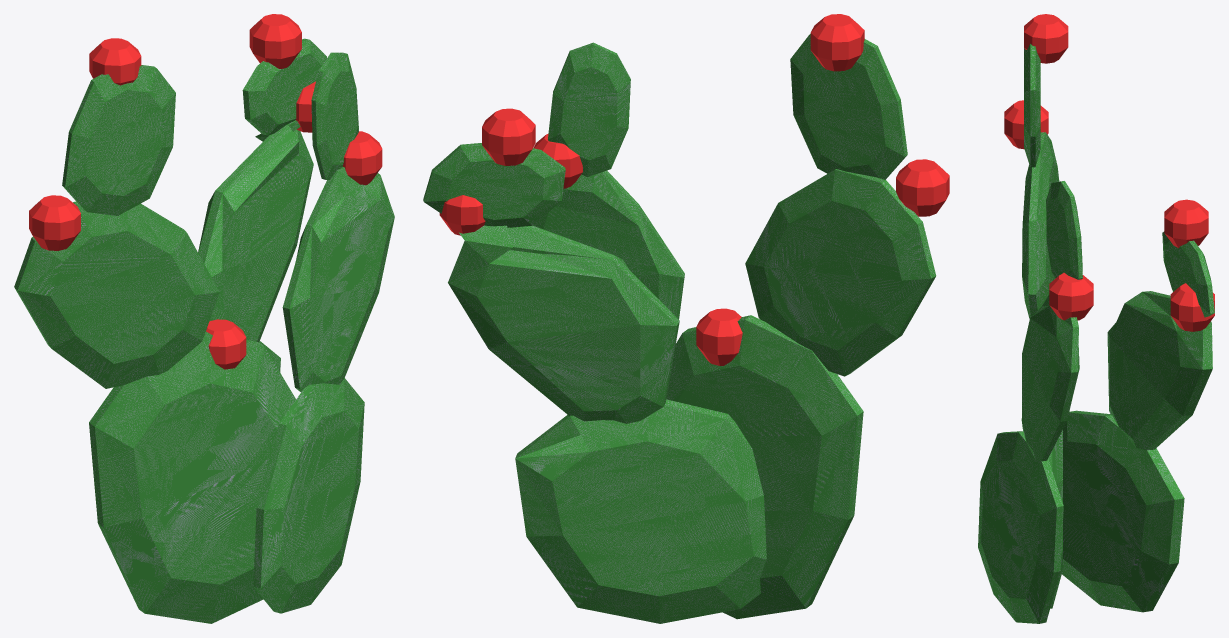
Rendered from Cactus_12.fbx.
3 views of the same model, side by side, from view 1: azimuth 30°, elevation 25°; view 2: azimuth 150°, elevation 25°; view 3: azimuth 270°, elevation 25° (orthographic). The views are drawn at different scales.
Parts seen in each view (by area): view 1: Model; view 2: Model; view 3: Model.
Boxes of the visible parts, x1=… form: Model: x1=14, y1=14, x2=394, y2=623; Model: x1=423, y1=14, x2=949, y2=623; Model: x1=978, y1=14, x2=1214, y2=623.
Size of the model in its own units: 196 by 278 by 112.
